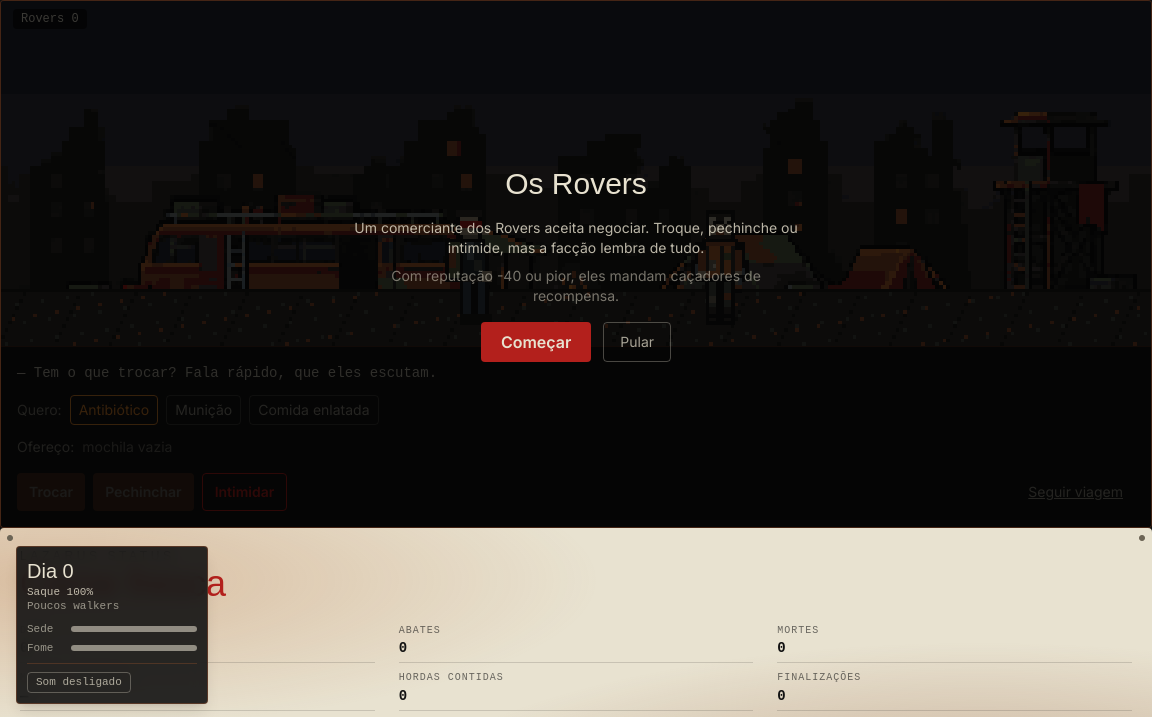
TraderGame › intimidating twice makes you wanted, and fighting the squad can win
Click the button "Começar" at (536, 342), box [481,322,591,362]
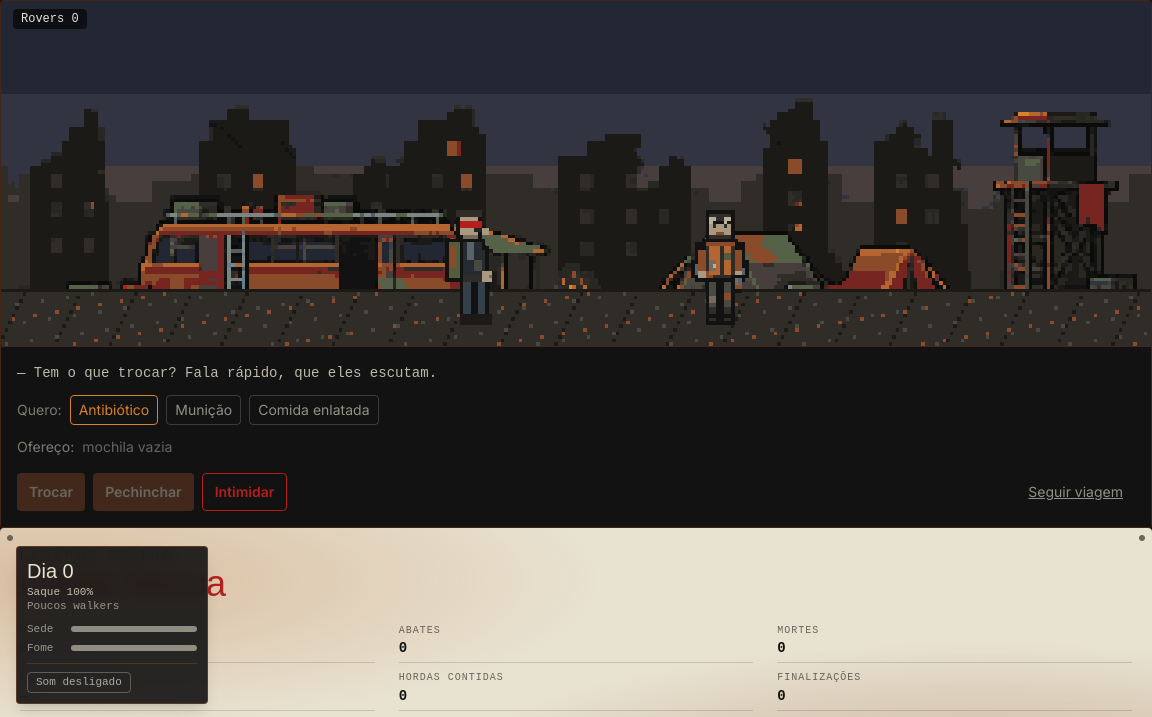
Click the button "Intimidar" at (244, 492), box [202,473,287,511]
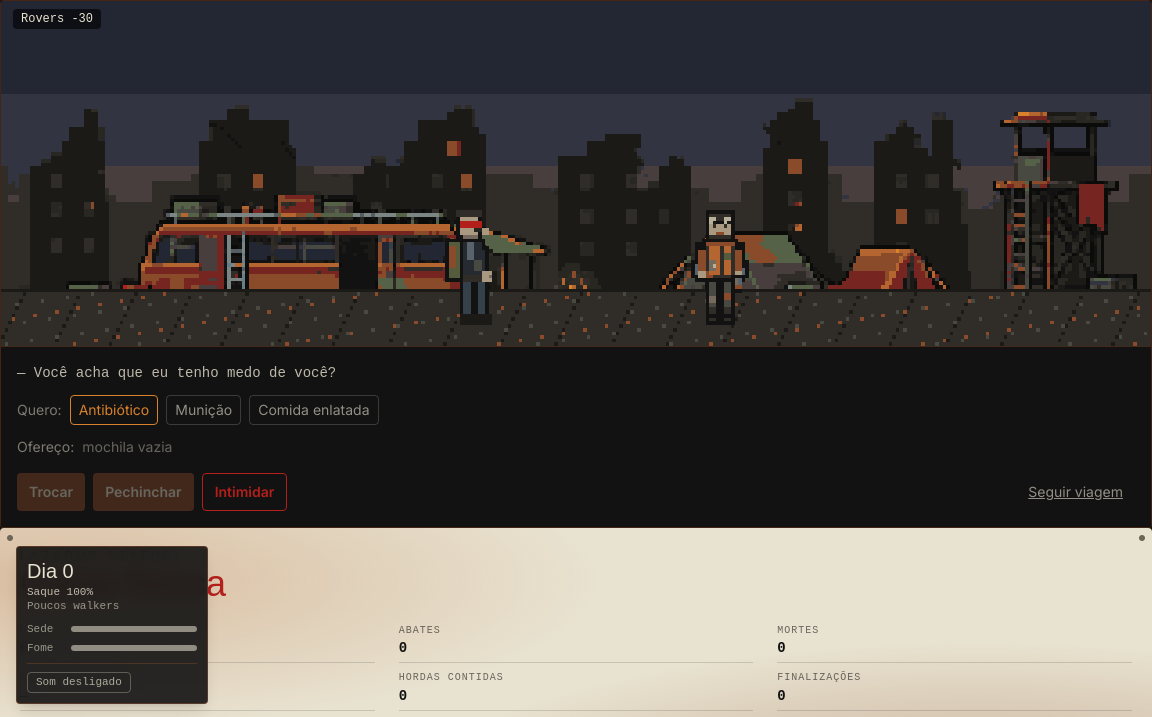
Click the button "Intimidar" at (244, 492), box [202,473,287,511]
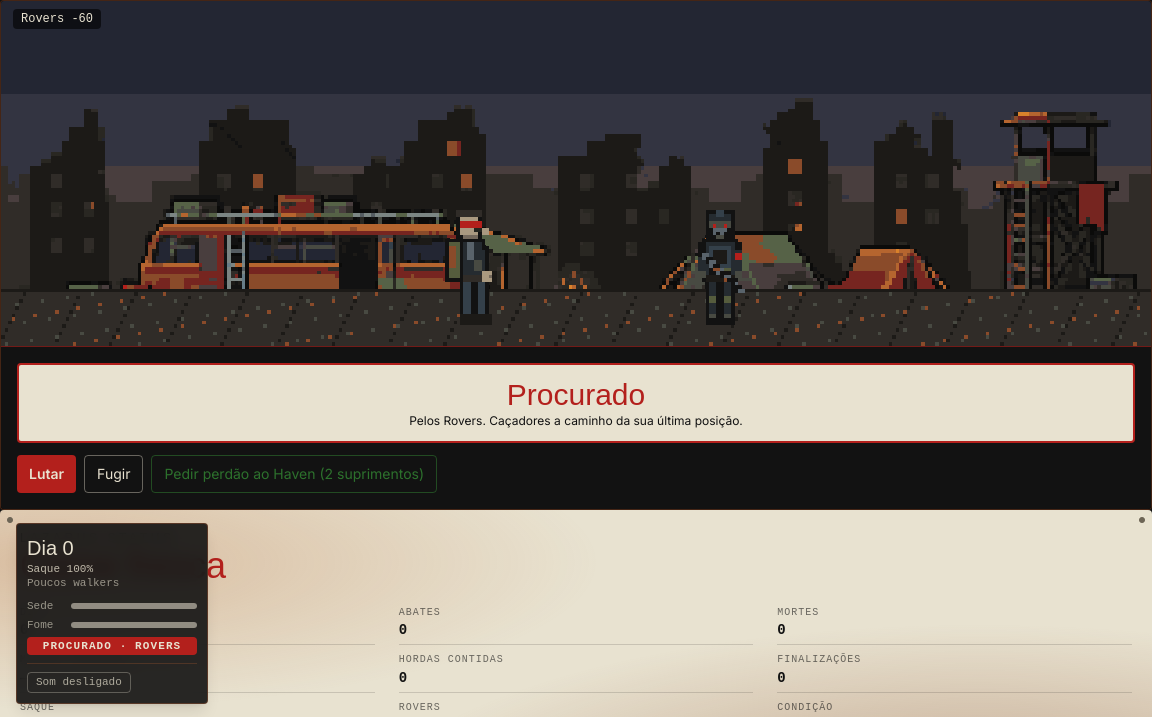
Expected: the heading "Procurado" is shown, [507,378,645,411]
Expected: the message named "sobrevivente" shows "Procurado", [43,640,181,652]
Click the button "Lutar" at (47, 474), box [17,455,76,493]
(page scrolled)
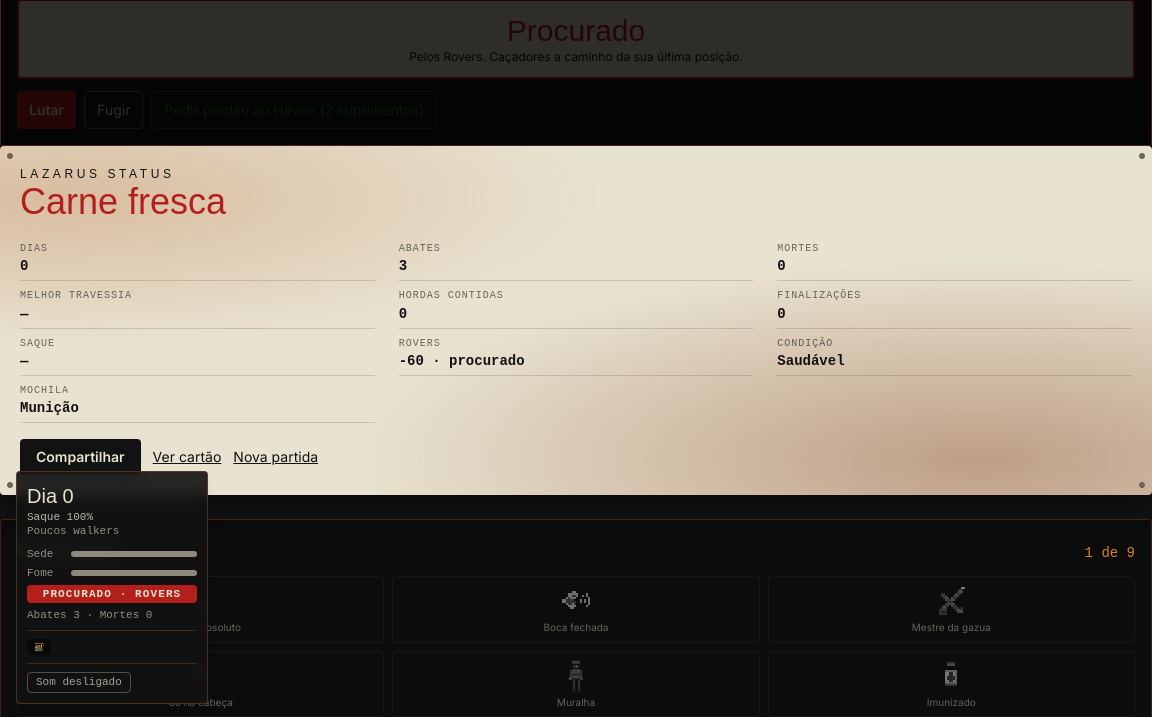
Expected: the text "-60 · procurado" is shown, [399,353,525,369]
Expected: the message named "sobrevivente" shows "Abates 3", [16,471,208,704]
